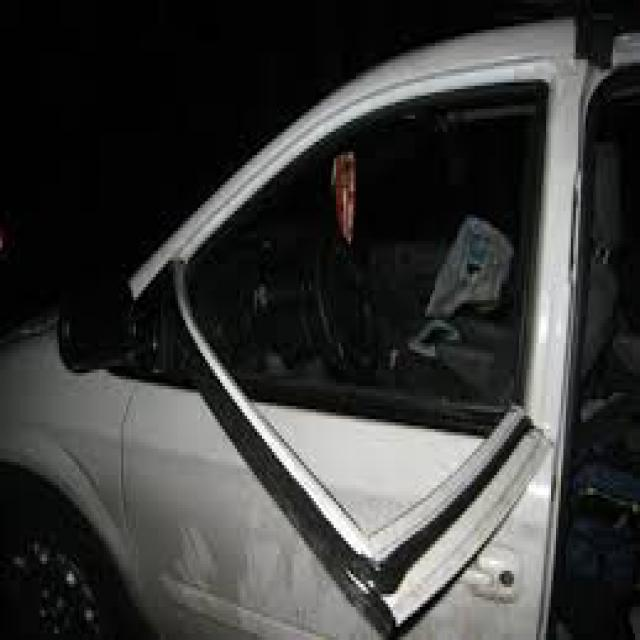moderate: (117, 209, 582, 638), (516, 192, 525, 226)
